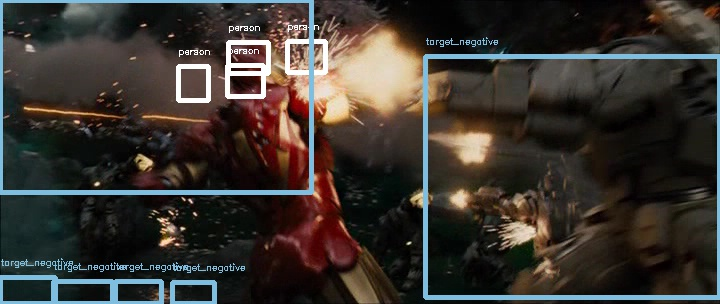person: (227, 36, 281, 91), (226, 36, 280, 91), (228, 36, 282, 91), (227, 35, 281, 90), (227, 37, 281, 92)
target_negative: (228, 144, 624, 291), (375, 144, 670, 278), (572, 19, 688, 281), (188, 44, 328, 242), (19, 48, 68, 169), (418, 292, 497, 295)
